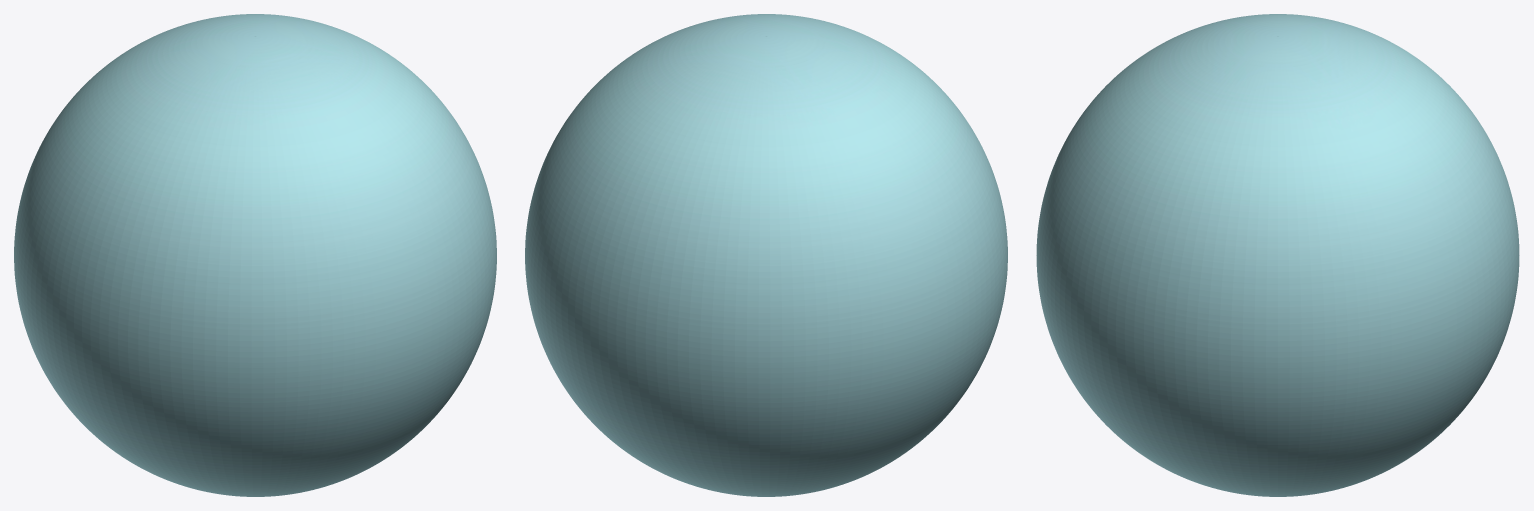
The model's file is urano.glb.
3 renders of one model, left to right at view 1: azimuth 30°, elevation 25°; view 2: azimuth 150°, elevation 25°; view 3: azimuth 270°, elevation 25°, orthographic.
Visible parts, largest first — view 1: Sphere; view 2: Sphere; view 3: Sphere.
Part boxes in pixels (x1,y1,x2,y2): Sphere: (14,14,496,496); Sphere: (525,14,1007,496); Sphere: (1036,14,1519,496).
Size of the model in its own units: 4.31 by 4.31 by 4.31.
Materials: 1 (1 with a texture image).
